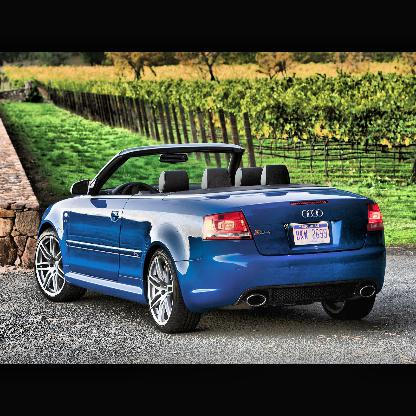Audi RS 4 Convertible 2008: (35, 143, 388, 336)
